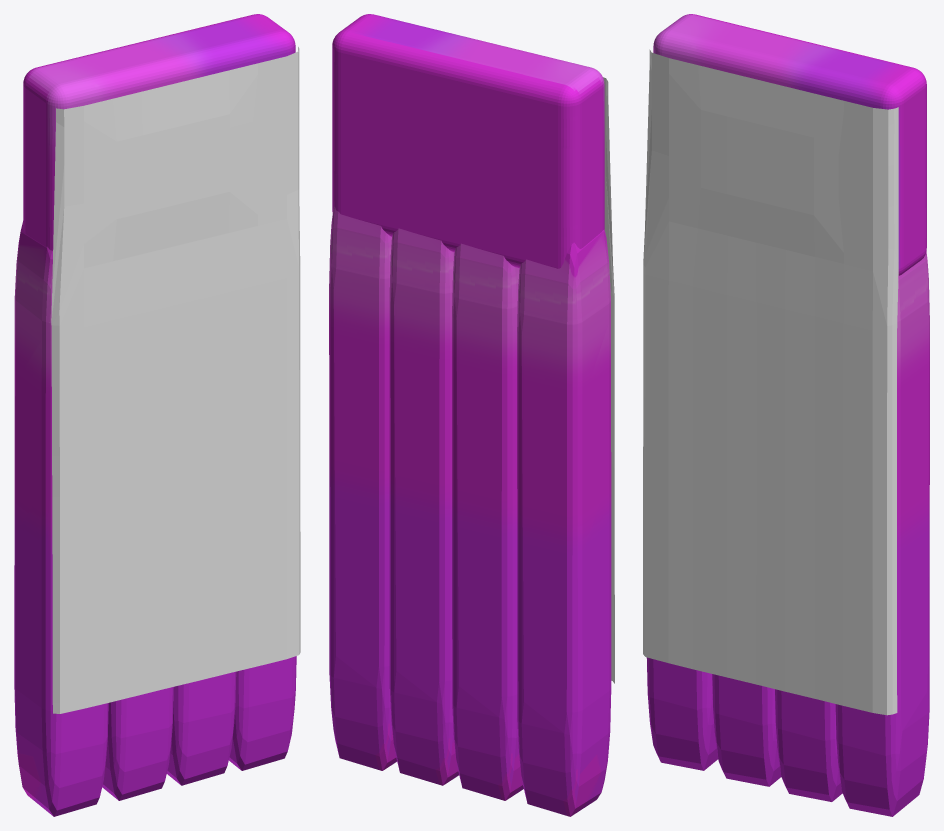
Rendered from vodnablazina.glb.
The picture shows the model from 3 angles, left to right: view 1: azimuth 30°, elevation 25°; view 2: azimuth 150°, elevation 25°; view 3: azimuth 330°, elevation 25°; orthographic projection.
Parts seen in each view (by area): view 1: condom, Cube.002; view 2: Cube.002, condom; view 3: condom, Cube.002.
Boxes of the visible parts, x1,y1,x2,y2 form: condom: [51, 47, 300, 713]; Cube.002: [14, 14, 296, 816]; Cube.002: [329, 14, 611, 816]; condom: [603, 77, 614, 683]; condom: [643, 49, 898, 715]; Cube.002: [646, 14, 929, 816].
Size of the model in its own units: 4.25 by 11.71 by 1.29.
Materials: 3 (2 with a texture image).
